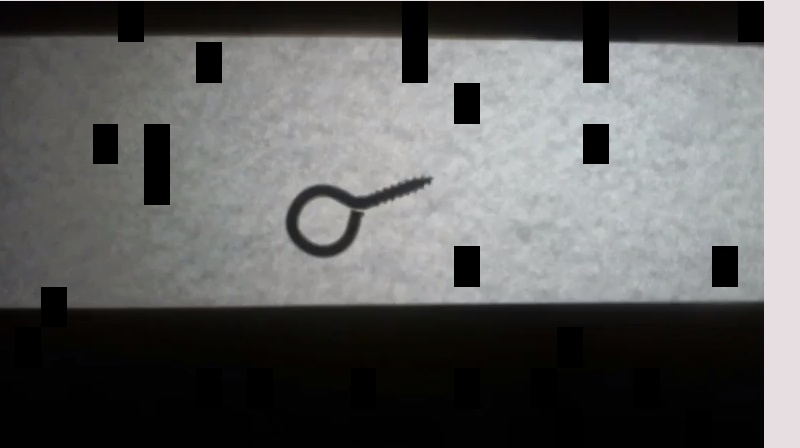O001: (279, 168, 436, 260)
